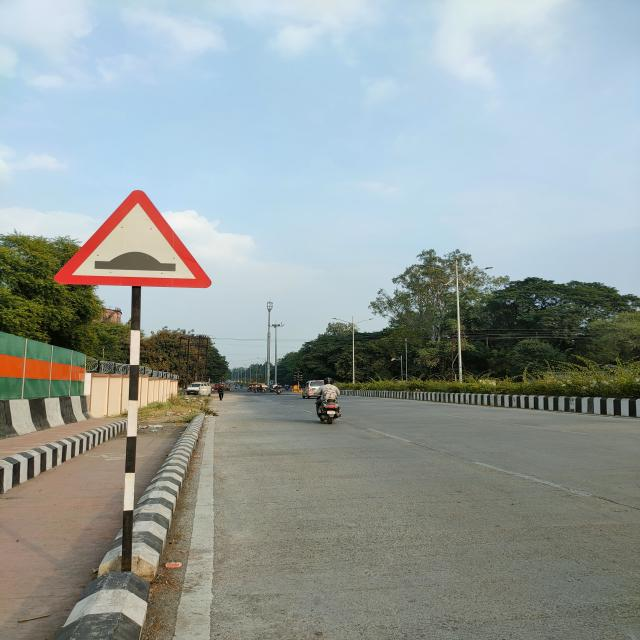HUMP_OR_ROUGH_ROAD: (54, 190, 210, 289)
